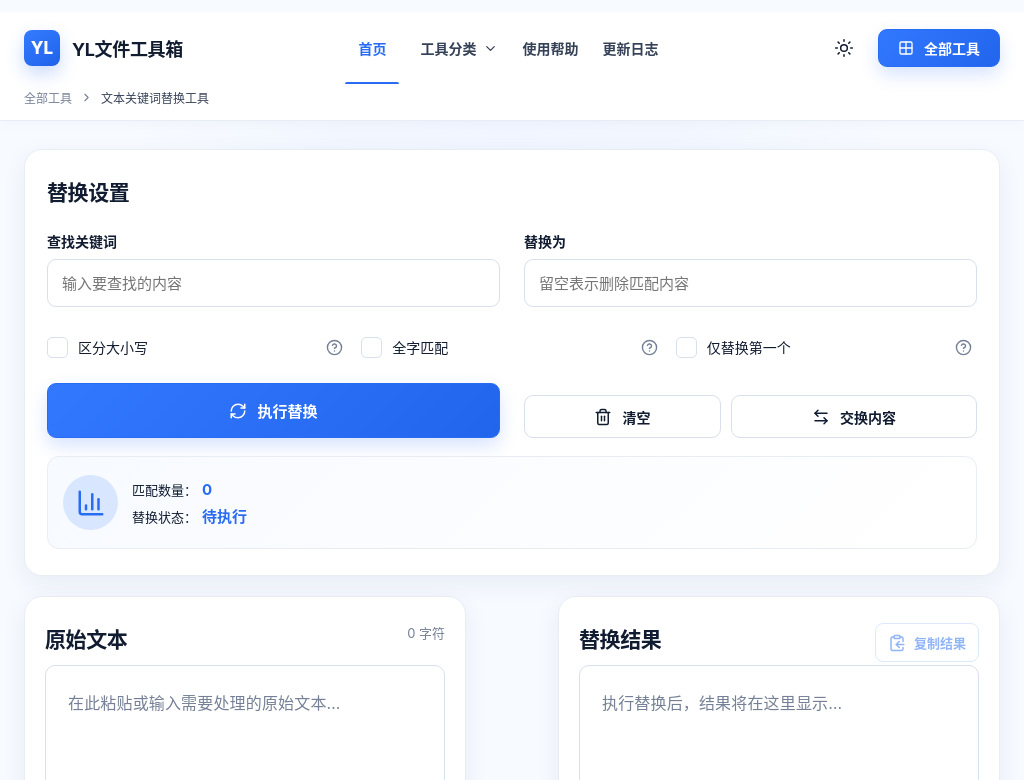
Test: ReplacePage › swaps keyword fields and allows editing the result
The width and height of the screenshot is (1024, 780).
Type "旧内容" into the field labelled "查找关键词" at (274, 283), box [47,259,500,307]
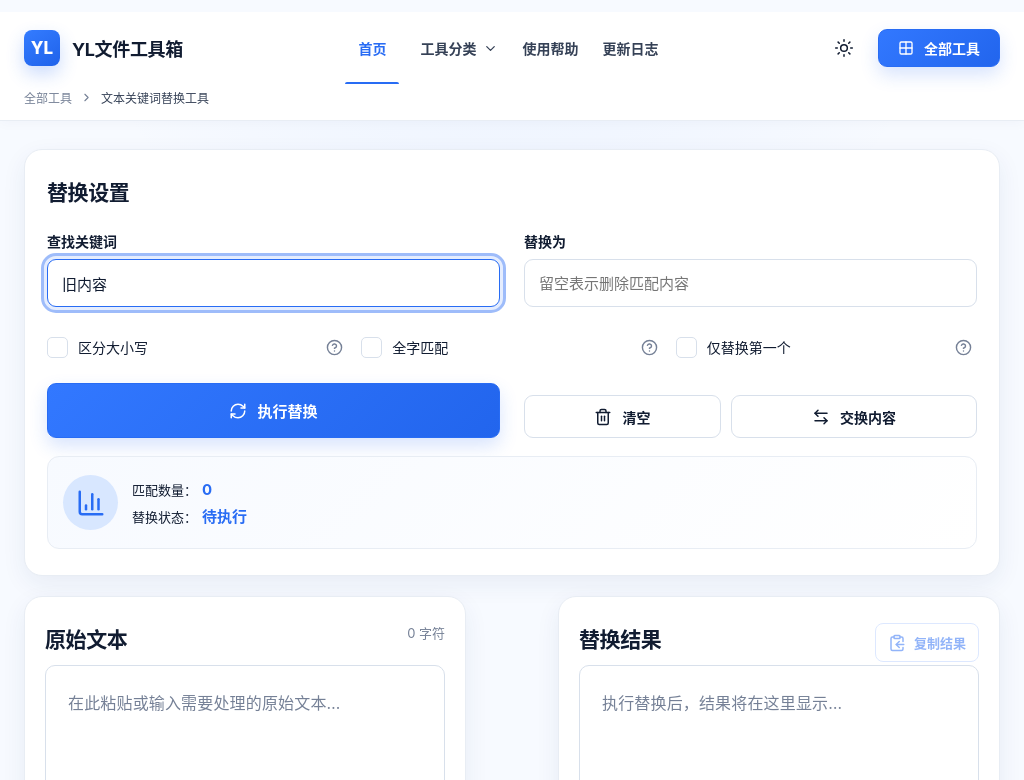
Type "新内容" into the field labelled "替换为" at (750, 283), box [524,259,977,307]
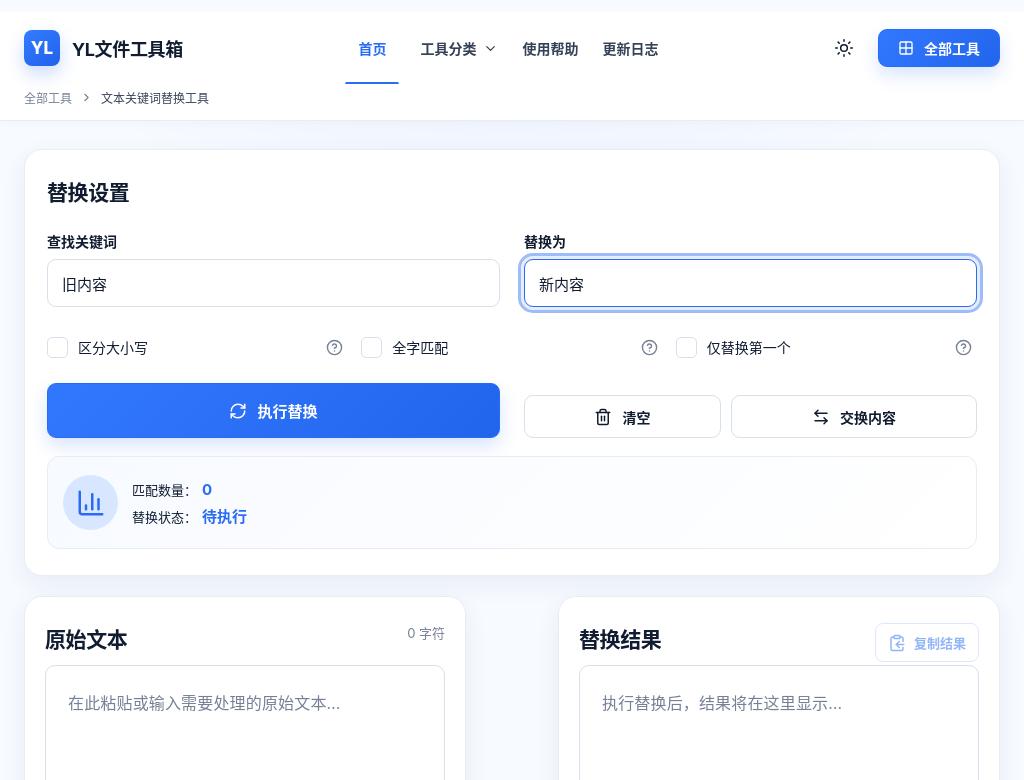
Click the button "交换内容" at (854, 416), box [731,395,977,438]
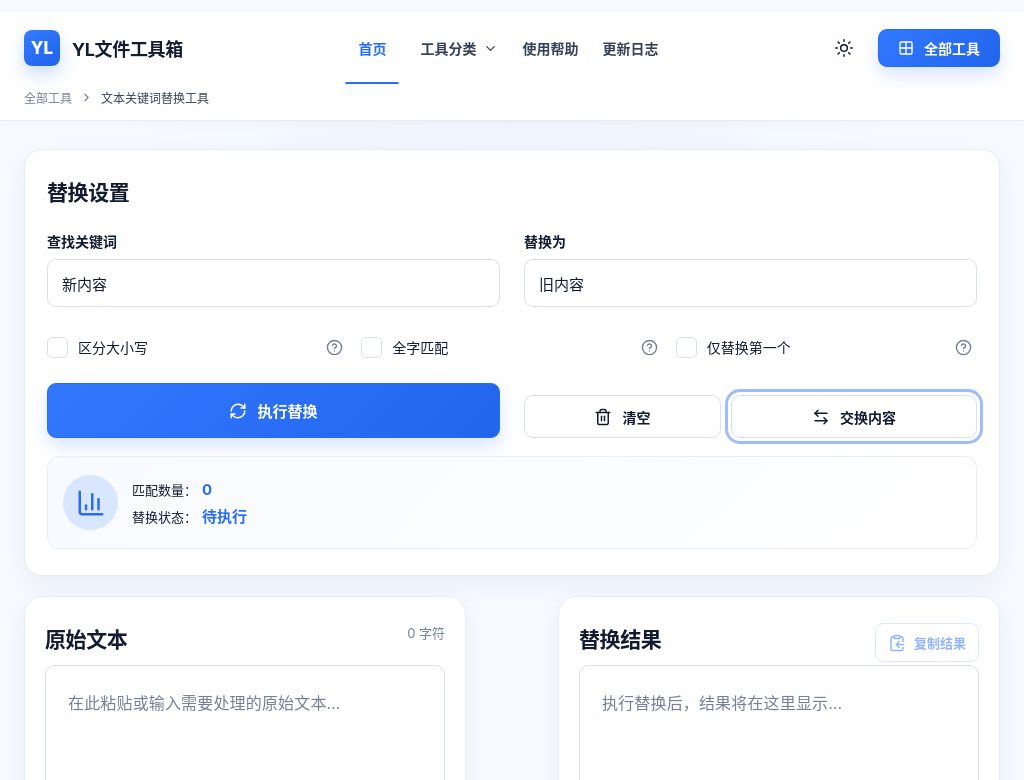
Check: the field labelled "查找关键词" holds "新内容", box [47,259,500,307]
Check: the field labelled "替换为" holds "旧内容", box [524,259,977,307]
